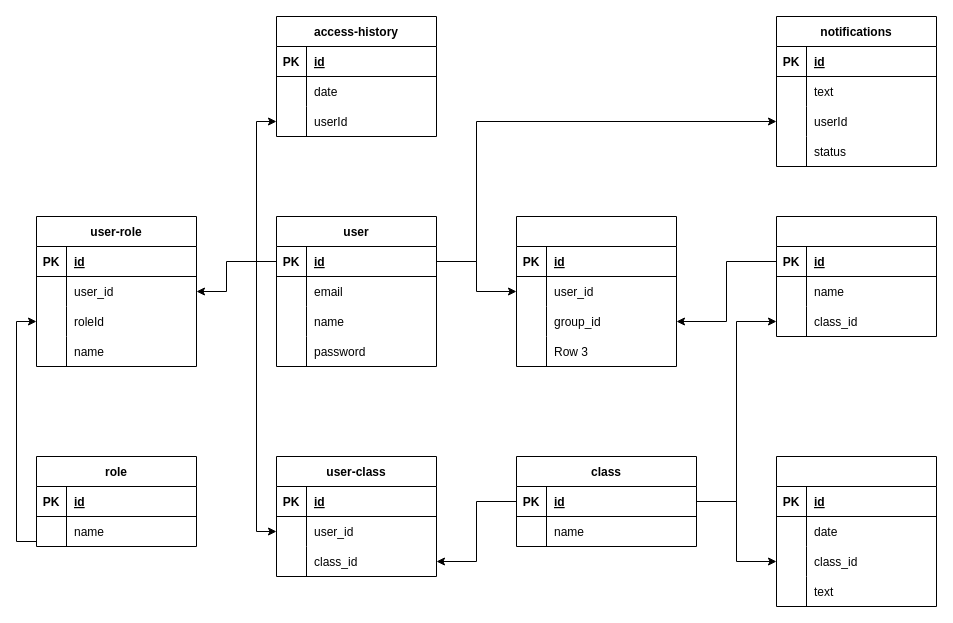
Some shapes in this 953 by 623 pixel diagram are drawn without their labels. The box of each missing label's shape, as (x1, y1, x2, y2) in pixels:
group: (776, 216, 936, 336)
homework: (776, 456, 936, 606)
user-group: (516, 216, 676, 366)
